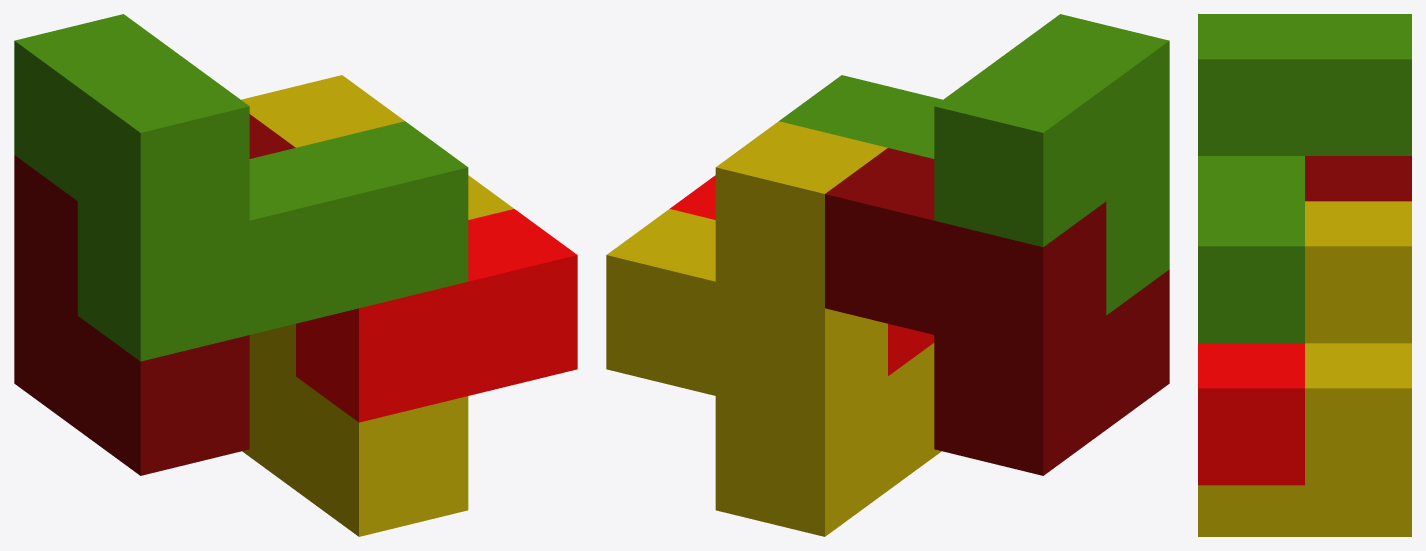
3 renders of one model, left to right at view 1: azimuth 30°, elevation 25°; view 2: azimuth 150°, elevation 25°; view 3: azimuth 270°, elevation 25°, orthographic. The views are drawn at different scales.
Visible parts, largest first — view 1: mergedBlocks(Clone); view 2: mergedBlocks(Clone); view 3: mergedBlocks(Clone).
Part boxes in pixels (x1,y1,x2,y2): mergedBlocks(Clone): (14, 14, 577, 536); mergedBlocks(Clone): (606, 14, 1169, 536); mergedBlocks(Clone): (1198, 14, 1411, 536).
Bounding box in the file's own units: 4 × 4 × 2.
4 materials, 4 textured.
